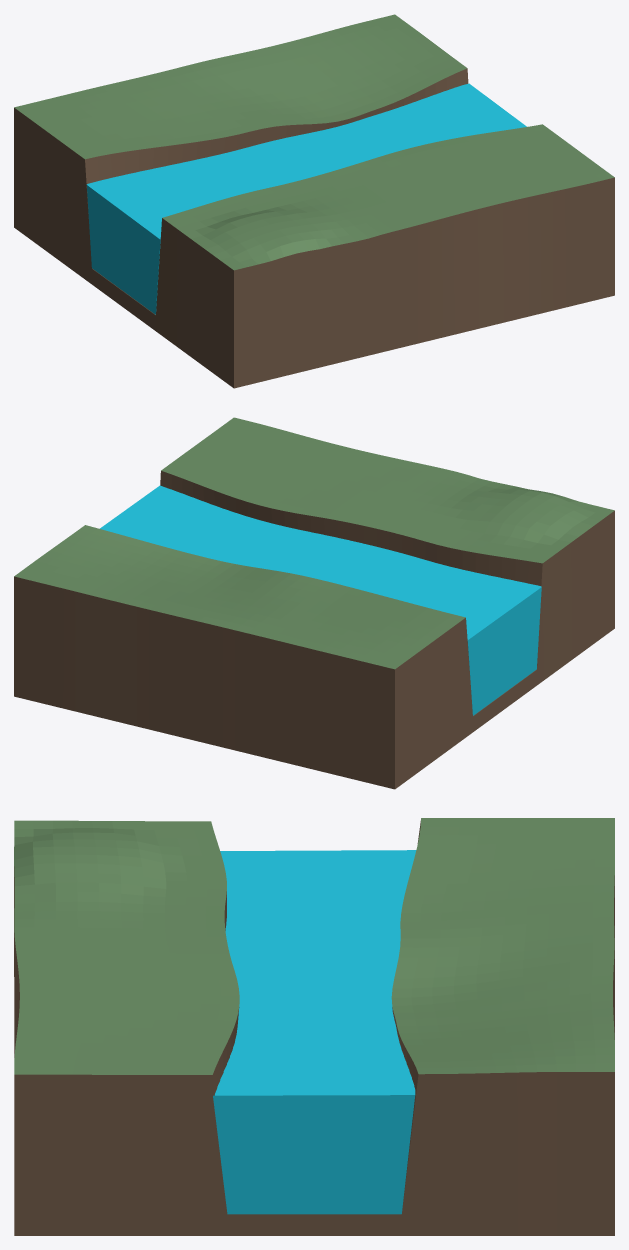
The model's file is Level0.fbx.
3 renders of one model, top to bottom at view 1: azimuth 30°, elevation 25°; view 2: azimuth 150°, elevation 25°; view 3: azimuth 270°, elevation 25°, orthographic. The views are drawn at different scales.
Parts seen in each view (by area): view 1: Ground, FloodTop, FloodFill; view 2: Ground, FloodTop, FloodFill; view 3: Ground, FloodTop, FloodFill.
Part boxes in pixels (left/top/right/bottom): Ground: left=14, top=14, right=614, bottom=388; FloodTop: left=87, top=83, right=526, bottom=238; FloodFill: left=86, top=184, right=160, bottom=314; Ground: left=14, top=417, right=614, bottom=789; FloodTop: left=100, top=485, right=541, bottom=639; FloodFill: left=467, top=587, right=541, bottom=715; Ground: left=14, top=818, right=614, bottom=1235; FloodTop: left=215, top=850, right=416, bottom=1094; FloodFill: left=213, top=1094, right=415, bottom=1214.
Bounding box in the file's own units: 5015 × 1579 × 5002.
